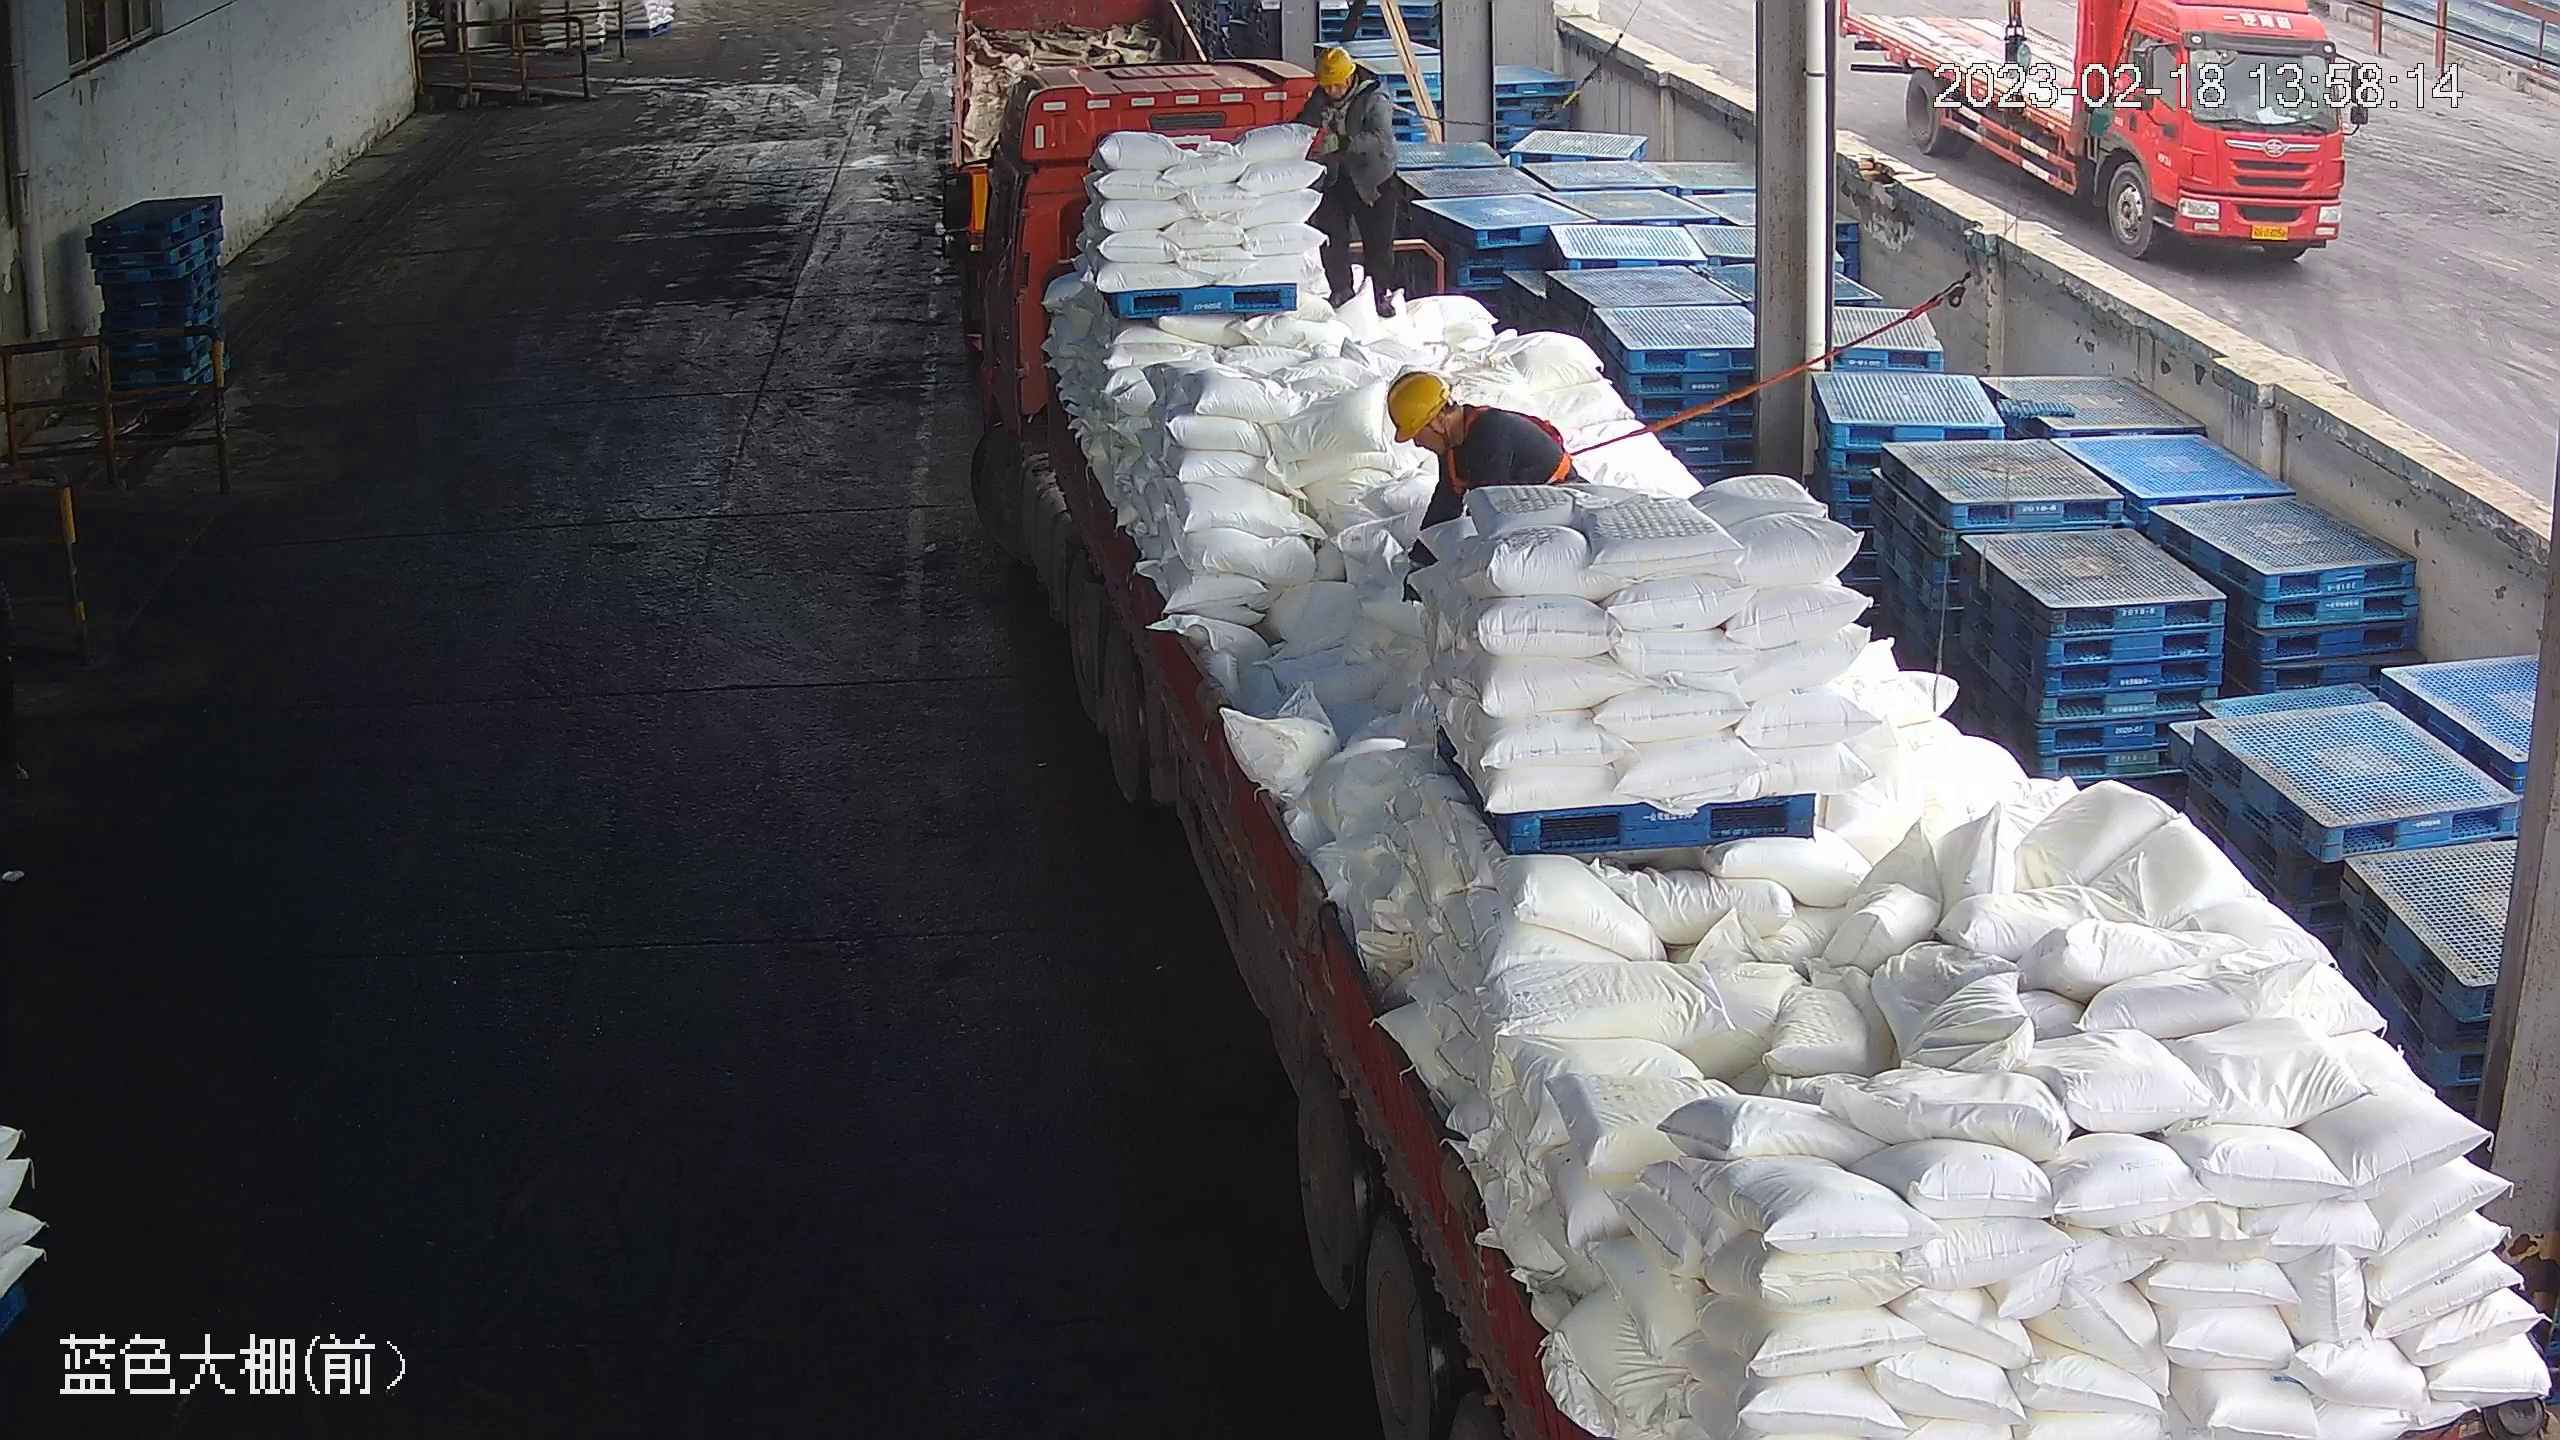belt: (1457, 401, 1584, 493), (1314, 80, 1389, 155)
head: (1384, 369, 1547, 483), (1303, 44, 1393, 122)
helmet: (1384, 368, 1452, 442), (1313, 45, 1360, 86)
people: (1285, 42, 1409, 312)
truck: (930, 69, 2554, 1440), (1857, 8, 2371, 262)
